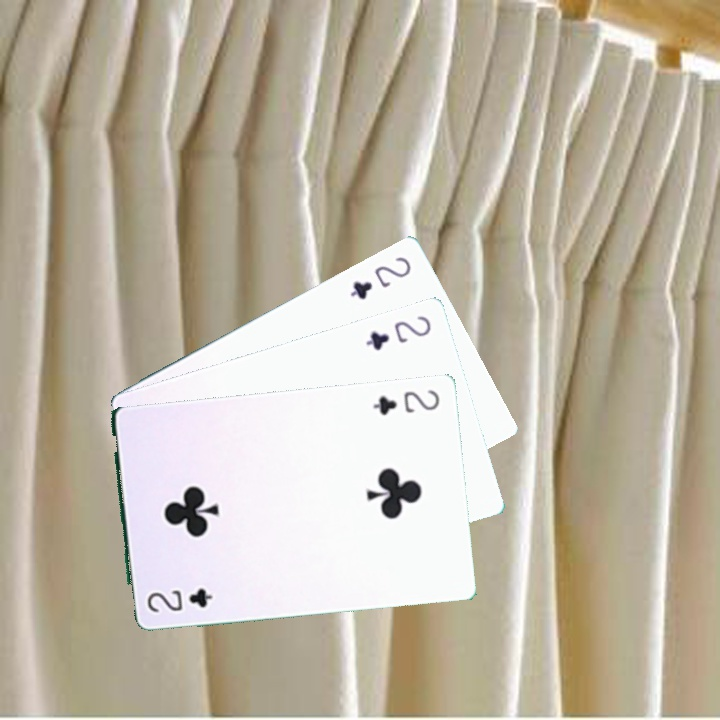2c: (346, 252, 414, 303), (361, 311, 434, 353), (369, 386, 442, 418), (143, 584, 215, 615)
